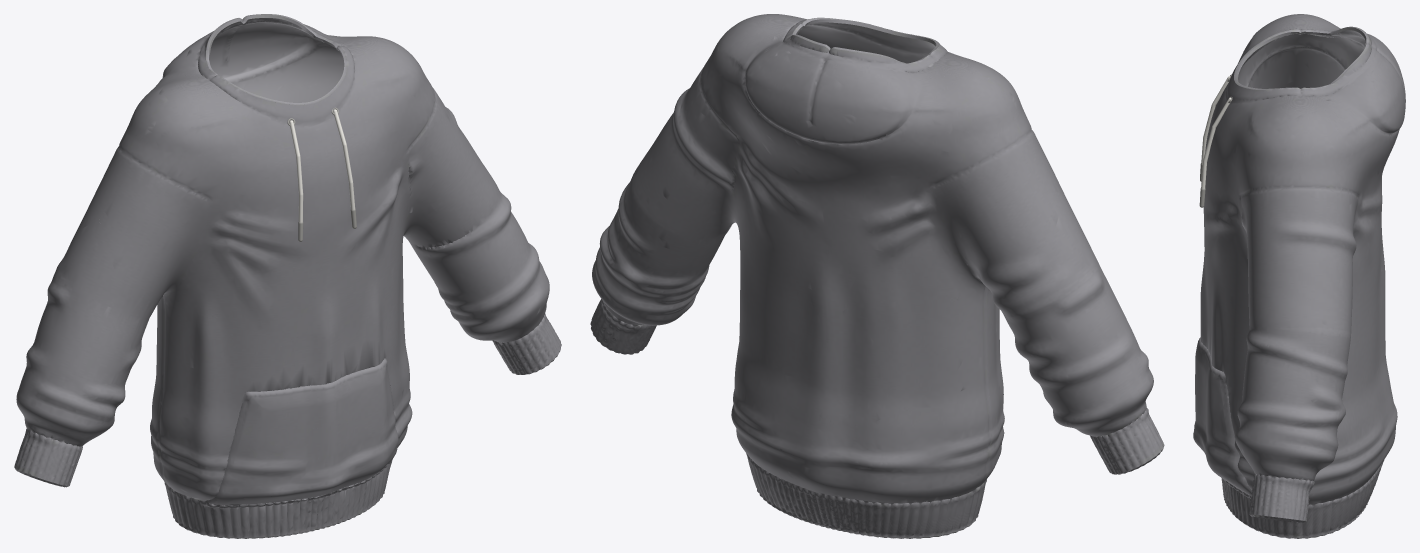
Rendered from 01_sudadera_capucha_pbr.glb.
The picture shows the model from 3 angles, left to right: view 1: azimuth 30°, elevation 25°; view 2: azimuth 150°, elevation 25°; view 3: azimuth 270°, elevation 25°; orthographic projection. The views are drawn at different scales.
Visible parts, largest first — view 1: Camiseta PBR, Cordones; view 2: Camiseta PBR; view 3: Camiseta PBR, Cordones.
Boxes of the visible parts, left/top/right/bottom form: Camiseta PBR: left=14, top=14, right=561, bottom=538; Cordones: left=289, top=109, right=355, bottom=222; Camiseta PBR: left=590, top=14, right=1164, bottom=538; Camiseta PBR: left=1193, top=14, right=1405, bottom=538; Cordones: left=1201, top=76, right=1231, bottom=188.
Bounding box in the file's own units: 0.9821 × 0.8019 × 0.3424.
3 materials, 1 textured.
